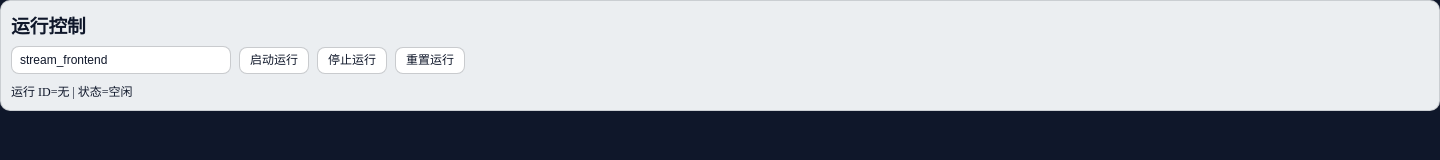
Test: RunControlPanel › stops active run successfully
The width and height of the screenshot is (1440, 160).
Click the button "启动运行": (274, 61) [239,47,309,74]
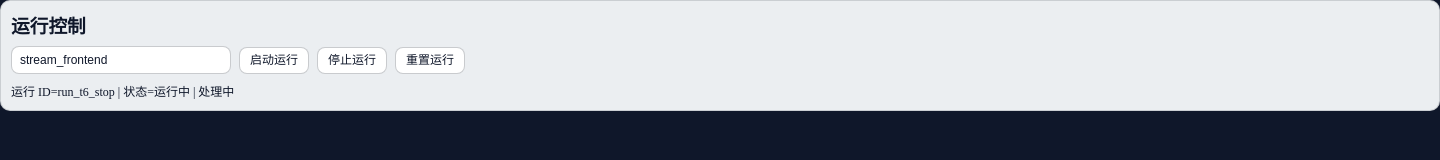
Click the button "停止运行": (352, 61) [317,47,387,74]
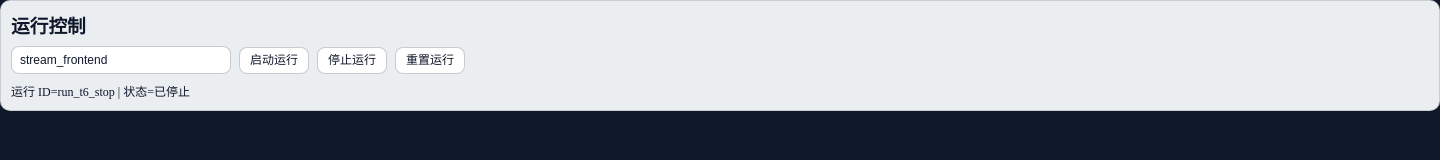
Expected: the text with test id "run-control-summary" shows "状态=已停止", [11,85,190,99]
